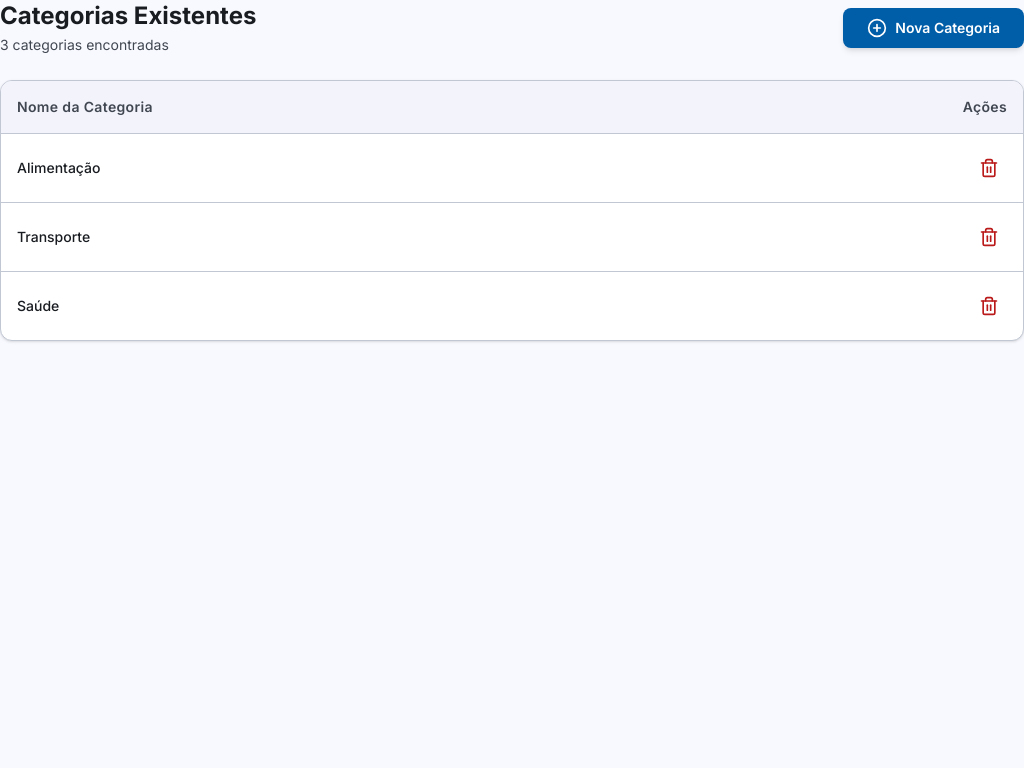
CategoriesPage › creates a category, shows success toast and closes modal
The image size is (1024, 768).
Expected: the text "Alimentação" is shown, [1,134,895,202]
Click the button "Nova Categoria" at (934,28), box [843,8,1023,48]
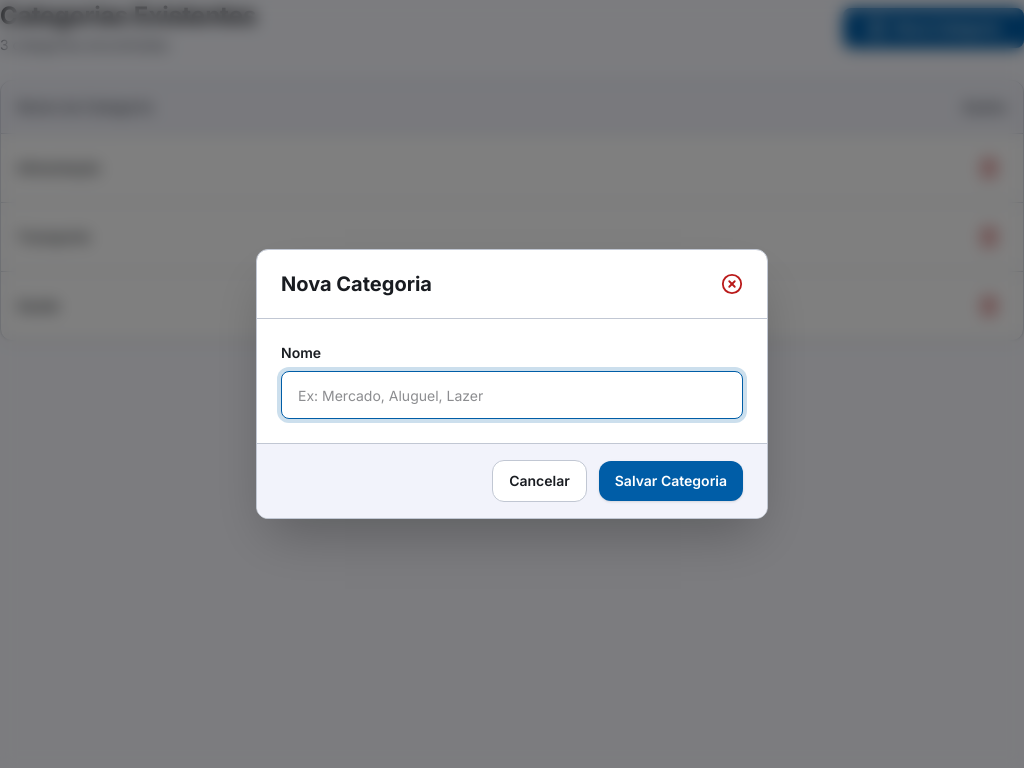
Type "Saúde" into the field labelled "Nome" at (512,395), box [281,371,743,419]
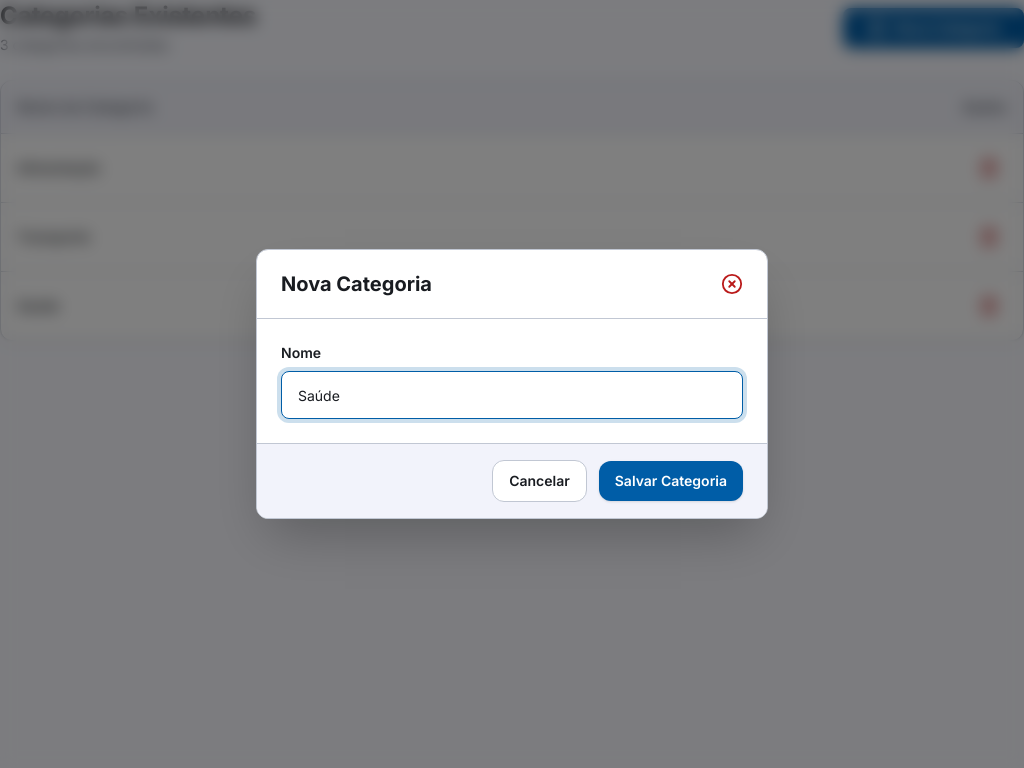
Click the button "Salvar Categoria" at (671,481), box [599,461,743,501]
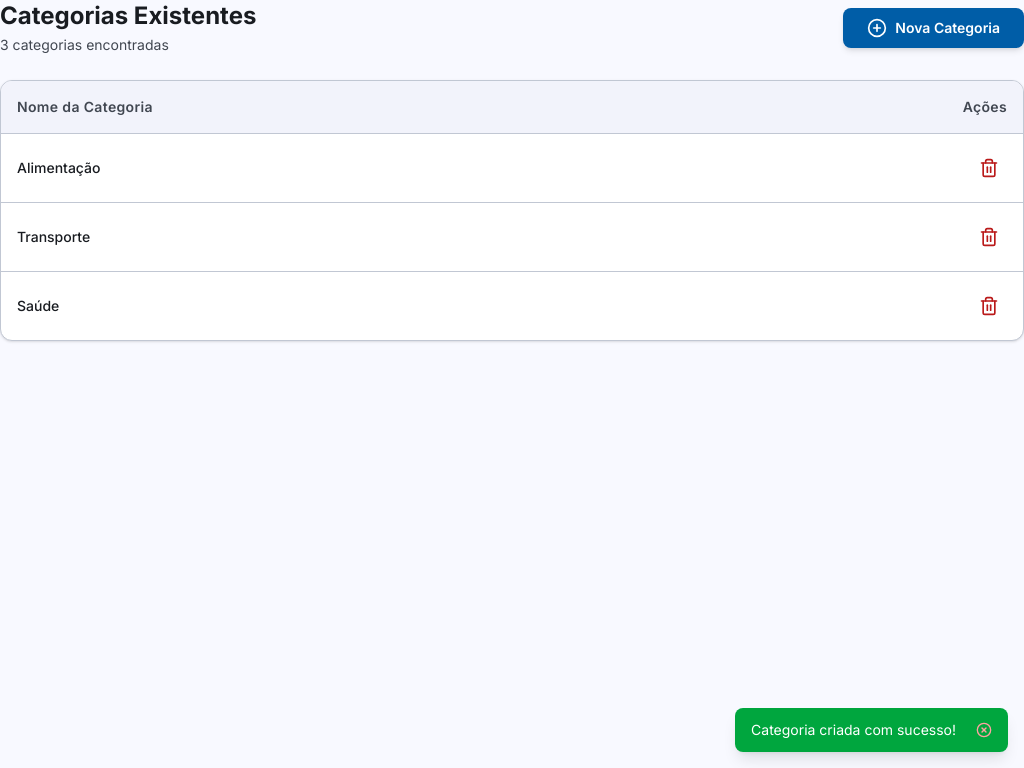
Expected: the text "Saúde" is shown, [1,272,895,340]
Expected: the dialog is gone
Expected: the message reads "Categoria criada com sucesso!", [751,721,956,738]
